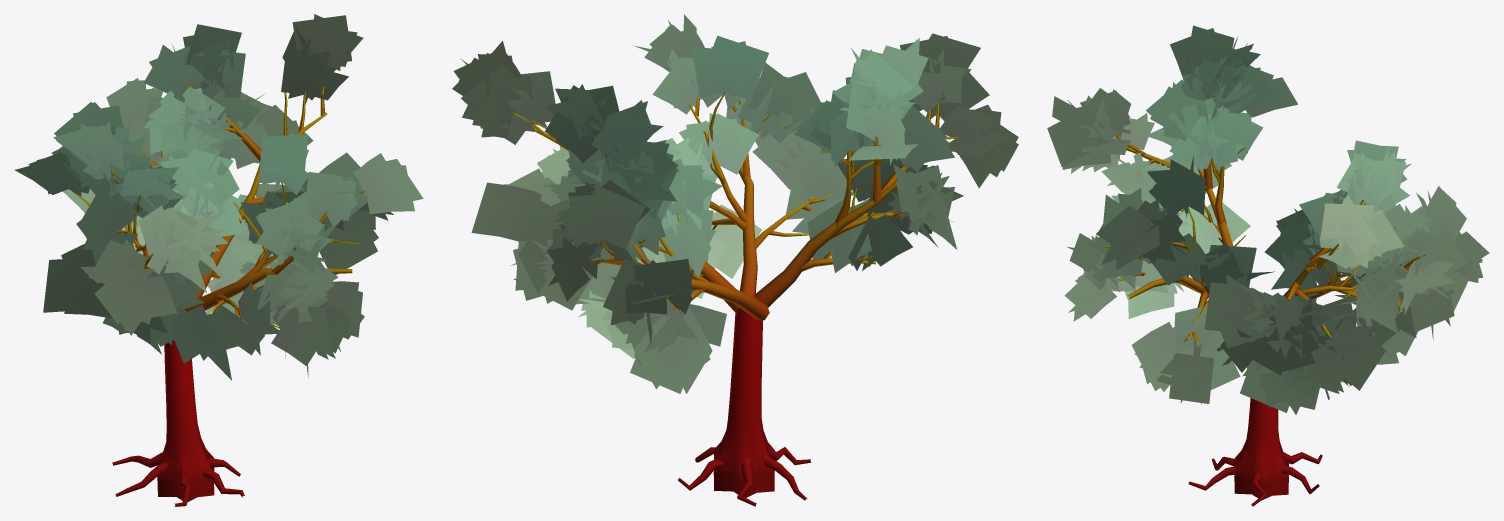
File: oak_b.glb
The picture shows the model from 3 angles, left to right: view 1: azimuth 30°, elevation 25°; view 2: azimuth 150°, elevation 25°; view 3: azimuth 270°, elevation 25°; orthographic projection. The views are drawn at different scales.
Visible parts, largest first — view 1: LOD0; view 2: LOD0; view 3: LOD0.
Part boxes in pixels (x1,y1,x2,y2): LOD0: (14, 14, 423, 506); LOD0: (452, 14, 1018, 506); LOD0: (1047, 25, 1489, 506).
Size of what is drawn, in the model's own units: 10.22 by 11 by 10.6.
